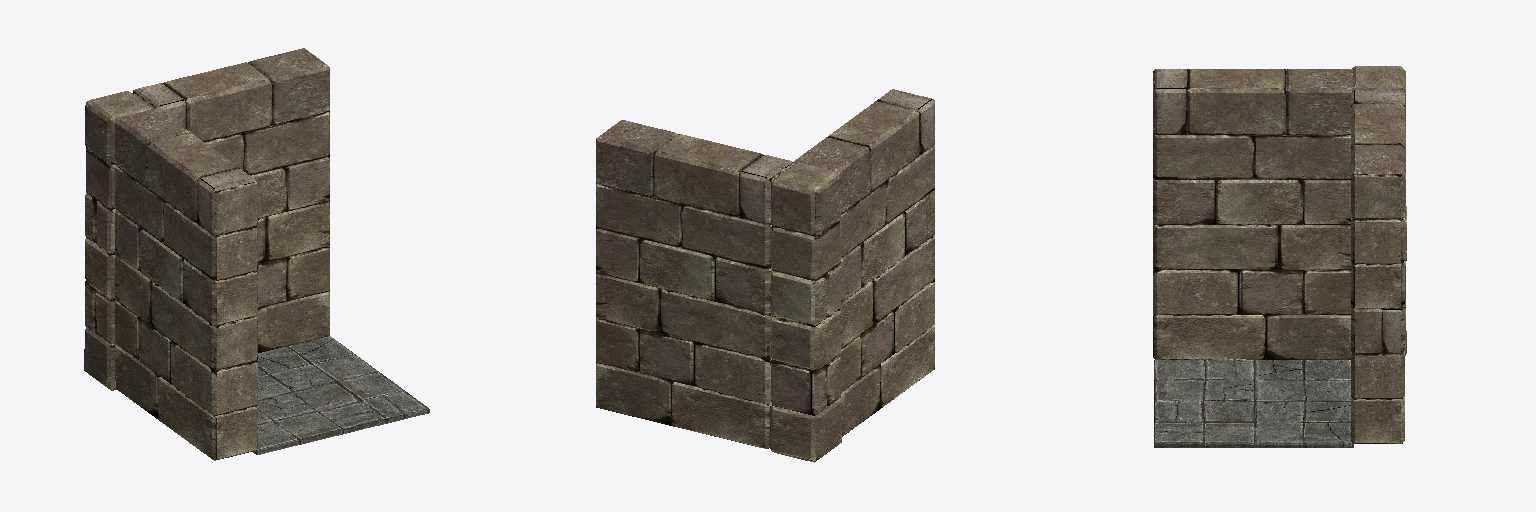
3 views of the same model, side by side, from view 1: azimuth 30°, elevation 25°; view 2: azimuth 150°, elevation 25°; view 3: azimuth 270°, elevation 25° (orthographic).
Visible parts, largest first — view 1: Box4139, Box4132, Box4141, Box4145; view 2: Box4132, Box4139, Box4145; view 3: Box4139, Box4132, Box4141, Box4145.
Boxes of the visible parts, box(x1,y1,x2,y2) form: Box4139: box(115, 108, 257, 460); Box4132: box(133, 48, 329, 352); Box4141: box(253, 336, 429, 454); Box4145: box(84, 91, 152, 390); Box4132: box(596, 120, 792, 448); Box4139: box(793, 89, 934, 436); Box4145: box(770, 162, 841, 462); Box4139: box(1153, 69, 1353, 359); Box4132: box(1351, 90, 1404, 443); Box4141: box(1154, 359, 1353, 447); Box4145: box(1352, 66, 1406, 355).
Size of the model in its own units: 2.61 by 3.08 by 2.57.
Materials: 2 (2 with a texture image).